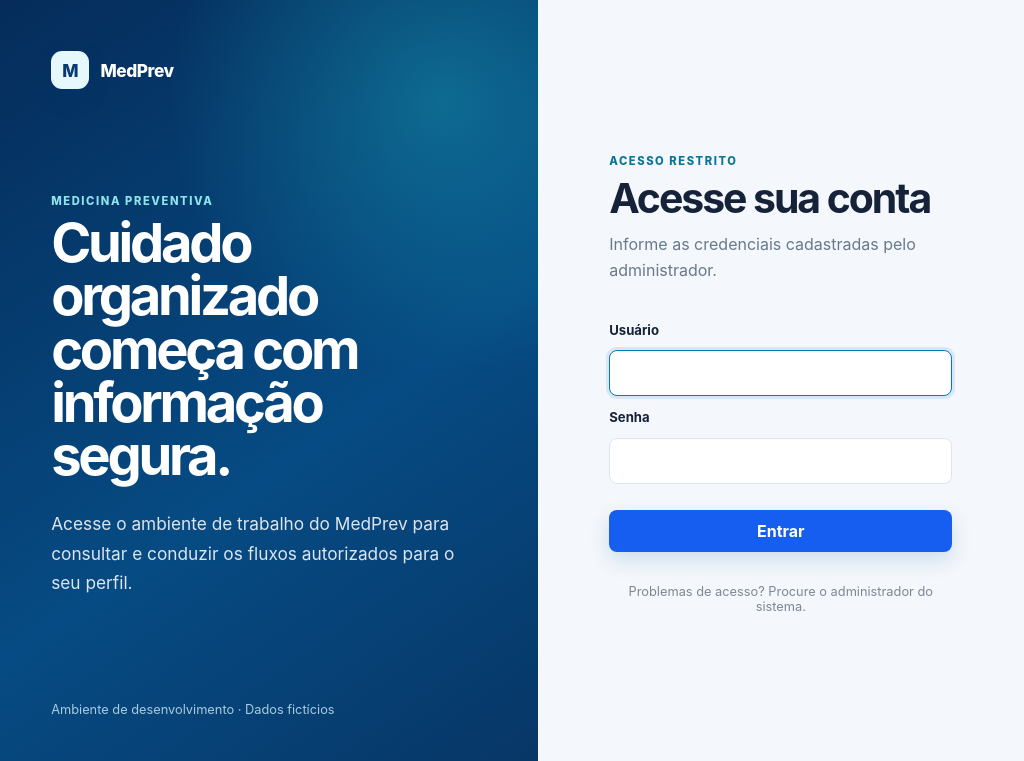
Test case: App › autentica e abre a tela principal
Type "admin.medprev" into the field labelled "Usuário".
click(781, 374); type("admin.medprev")  # box [609, 350, 952, 396]
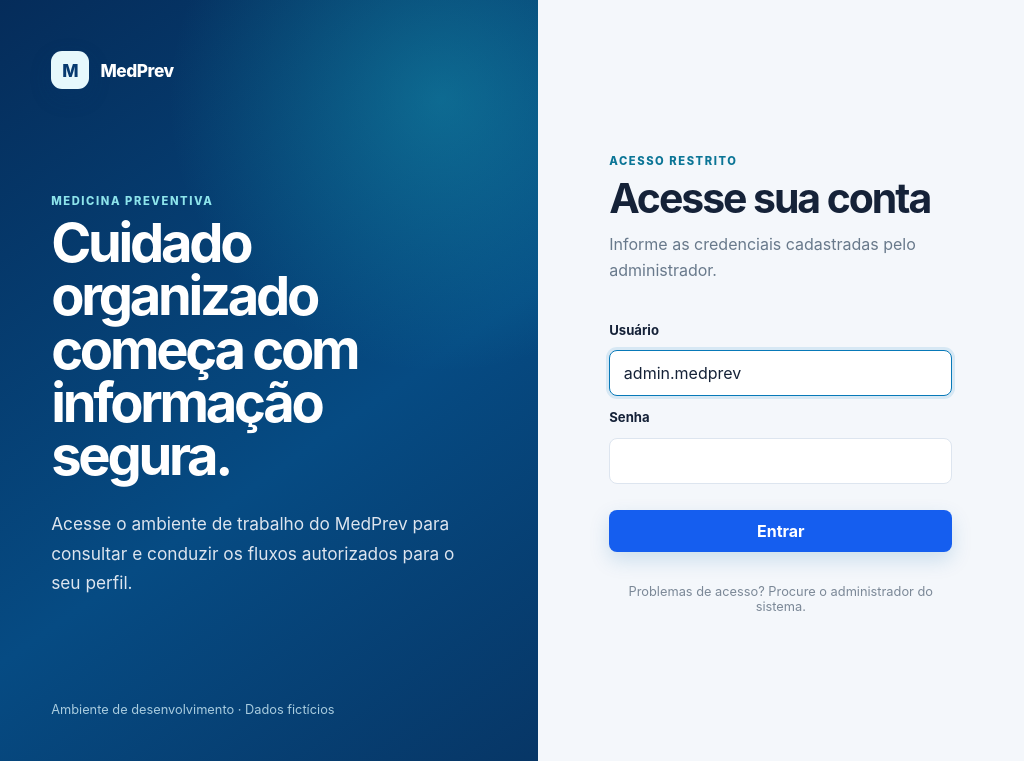
Type "MedPrev2026!" into the password field labelled "Senha".
click(781, 461); type("MedPrev2026!")  # box [609, 438, 952, 484]
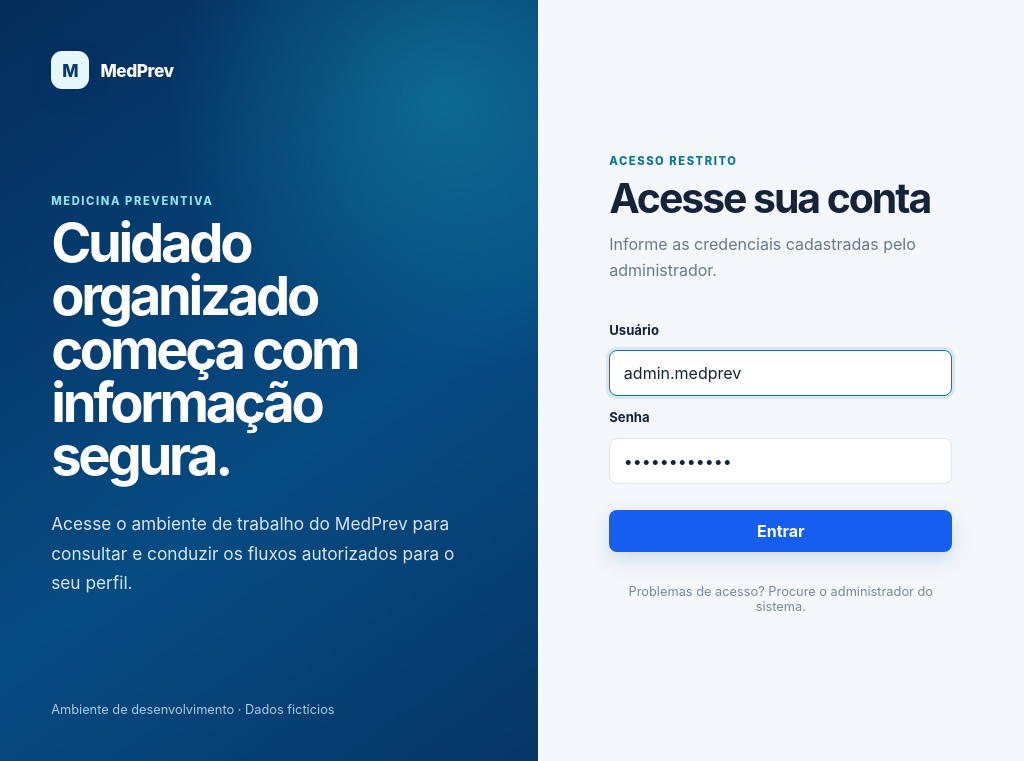
Click the button "Entrar".
click(781, 531)  # box [609, 510, 952, 552]
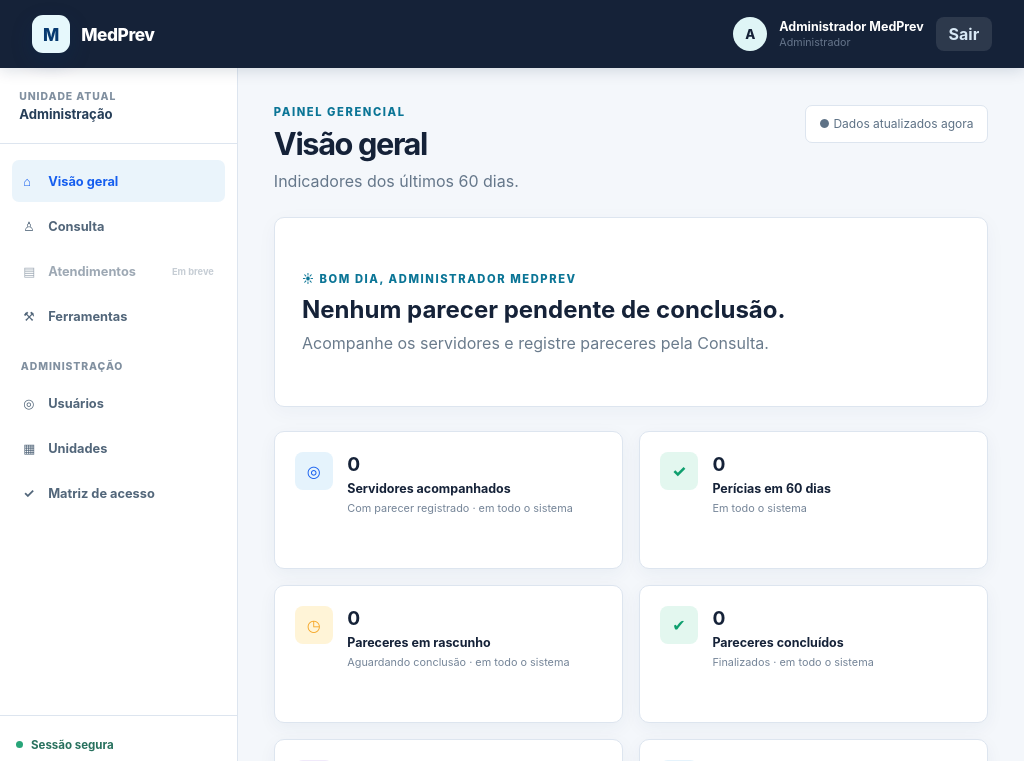
Result: the heading "Visão geral" is shown at [274, 125, 427, 162]
Result: the text "☀ Bom dia, Administrador MedPrev" is shown at [302, 272, 577, 286]
